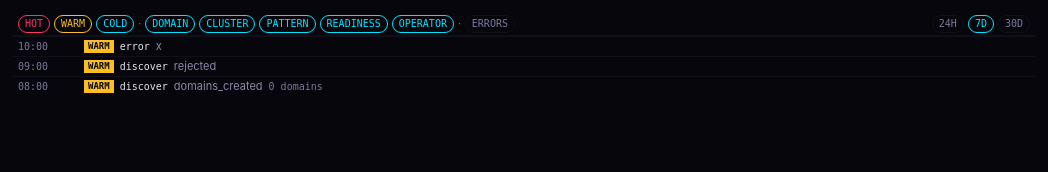
Test case: DomainLifecycleTimeline › errors_only chip narrows to error/failed/rejected events (T7)
The width and height of the screenshot is (1048, 172).
Click the button with aria-label "errors only" at [490, 24], box x1=465 y1=14 x2=515 y2=32
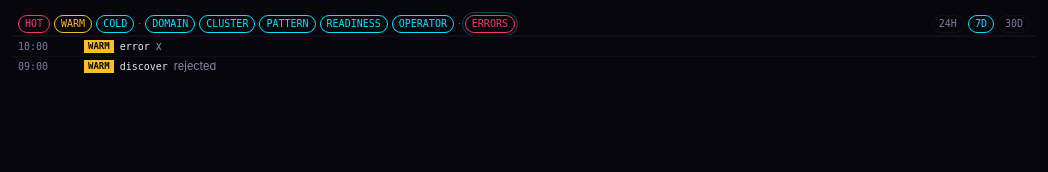
Result: the number of buttons with class "timeline-row" is 2 at x1=12 y1=36 x2=1036 y2=56; x1=12 y1=56 x2=1036 y2=76
